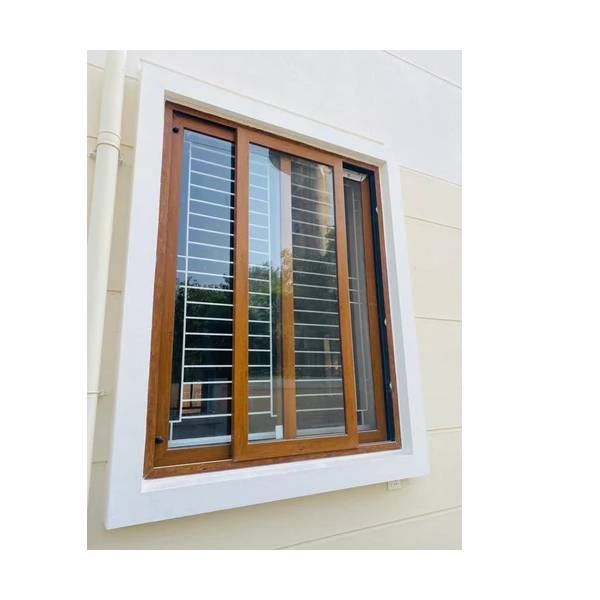Window: (163, 163, 392, 439)
